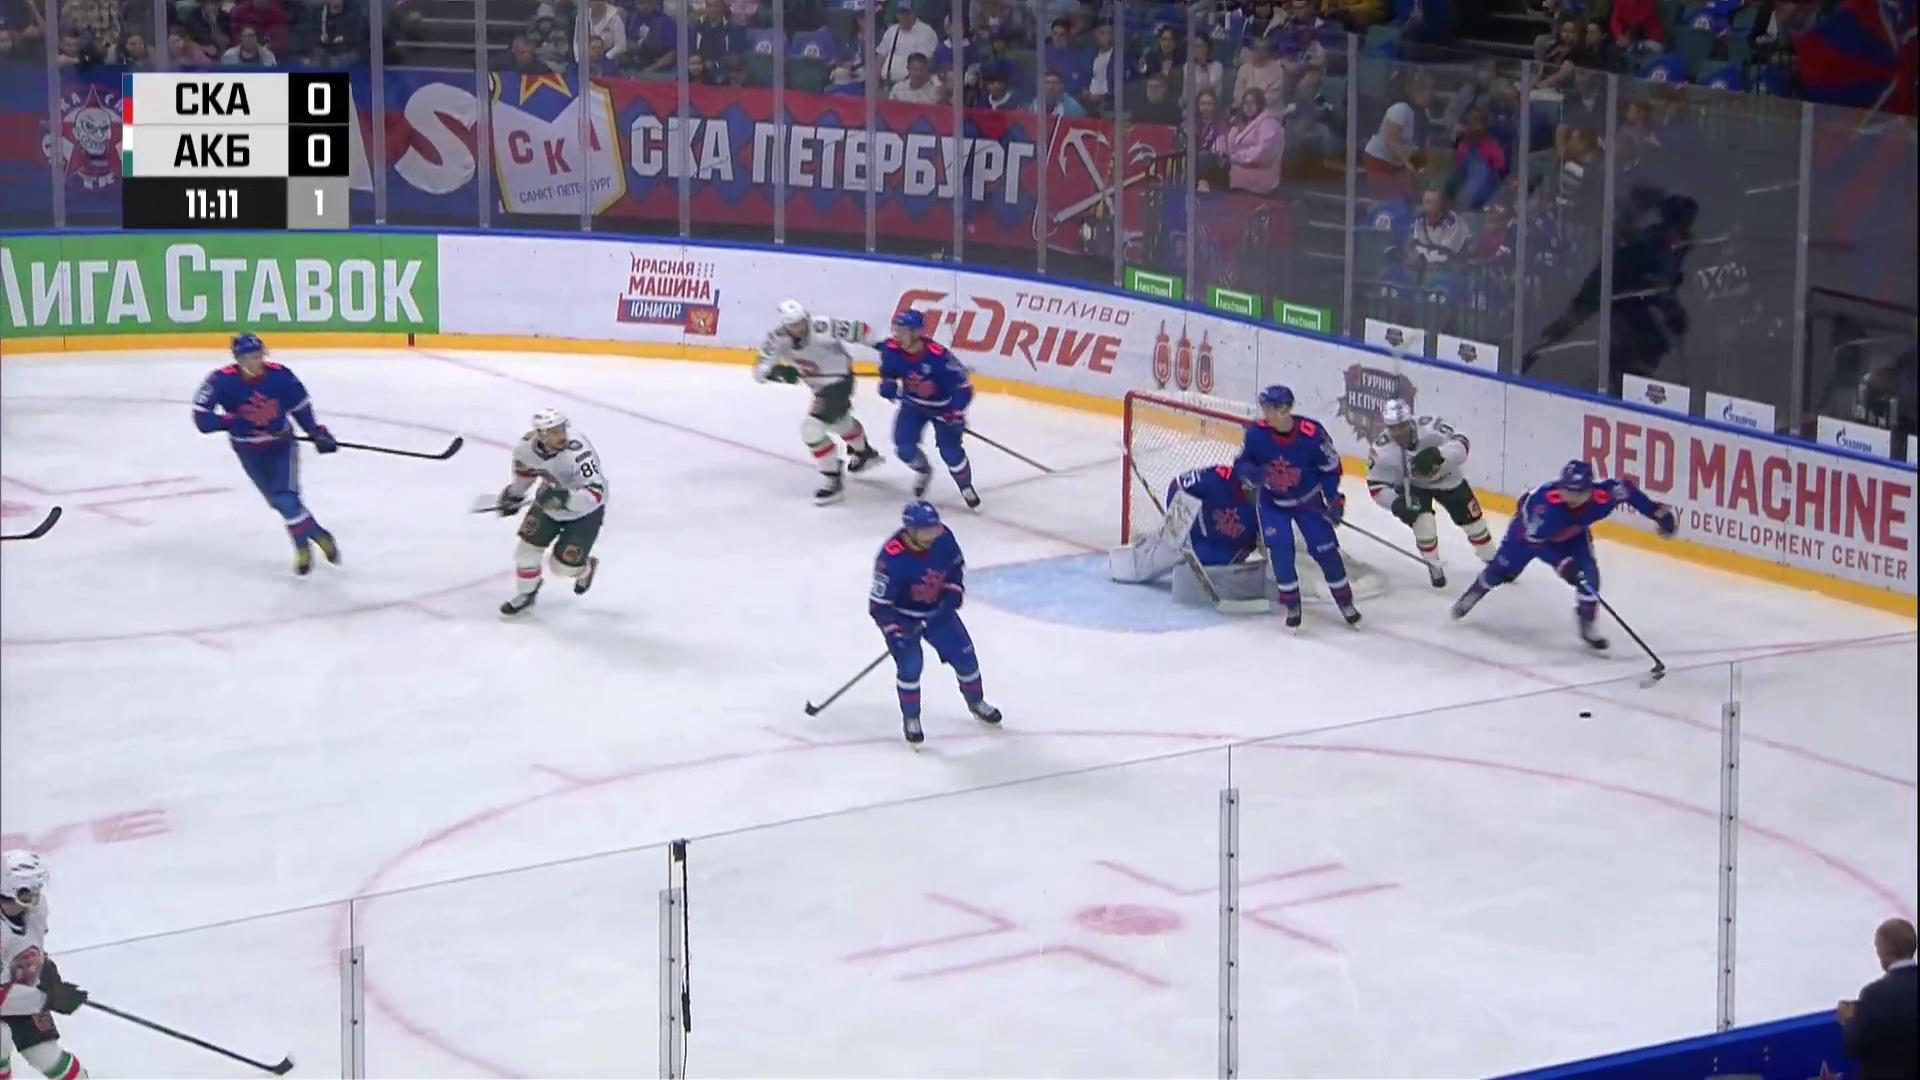ball: (1578, 711, 1592, 720)
